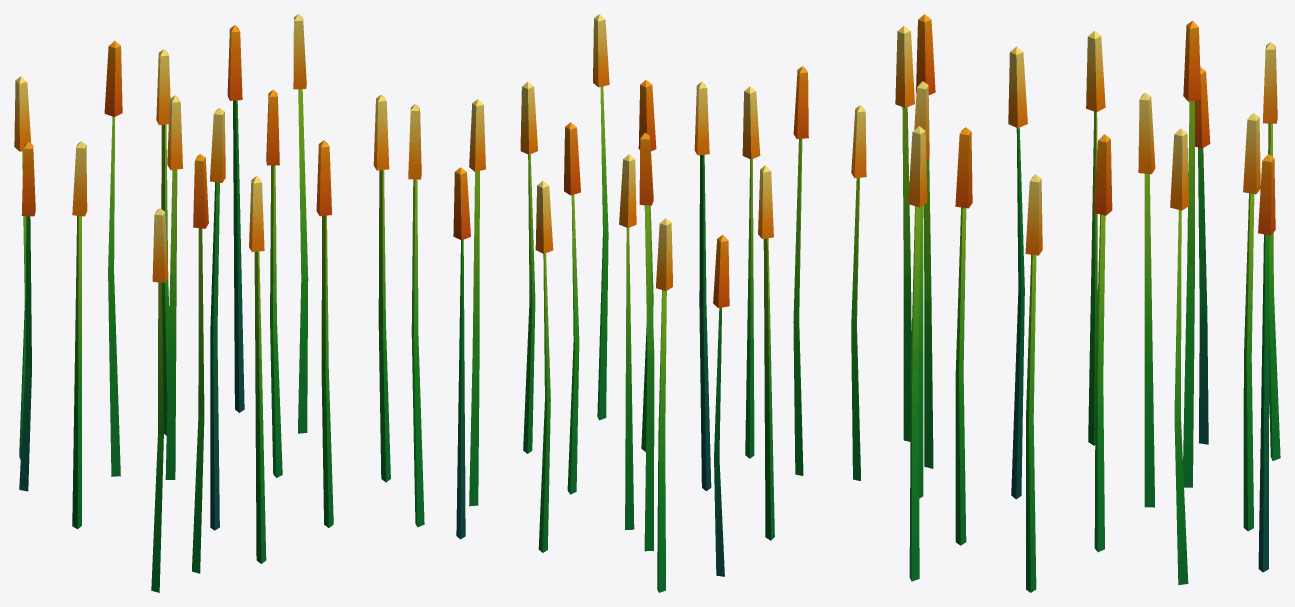
Rendered from Agricultural_Plant_5A.fbx.
3 views of the same model, side by side, from view 1: azimuth 30°, elevation 25°; view 2: azimuth 150°, elevation 25°; view 3: azimuth 270°, elevation 25° (orthographic). The views are drawn at different scales.
Visible parts, largest first — view 1: Agricultural_Plant_5A; view 2: Agricultural_Plant_5A; view 3: Agricultural_Plant_5A.
Part boxes in pixels (x1=…): Agricultural_Plant_5A: x1=14, y1=14, x2=424, y2=592; Agricultural_Plant_5A: x1=453, y1=14, x2=866, y2=592; Agricultural_Plant_5A: x1=895, y1=14, x2=1280, y2=592.
Bounding box in the file's own units: 88.54 × 123 × 92.32.
